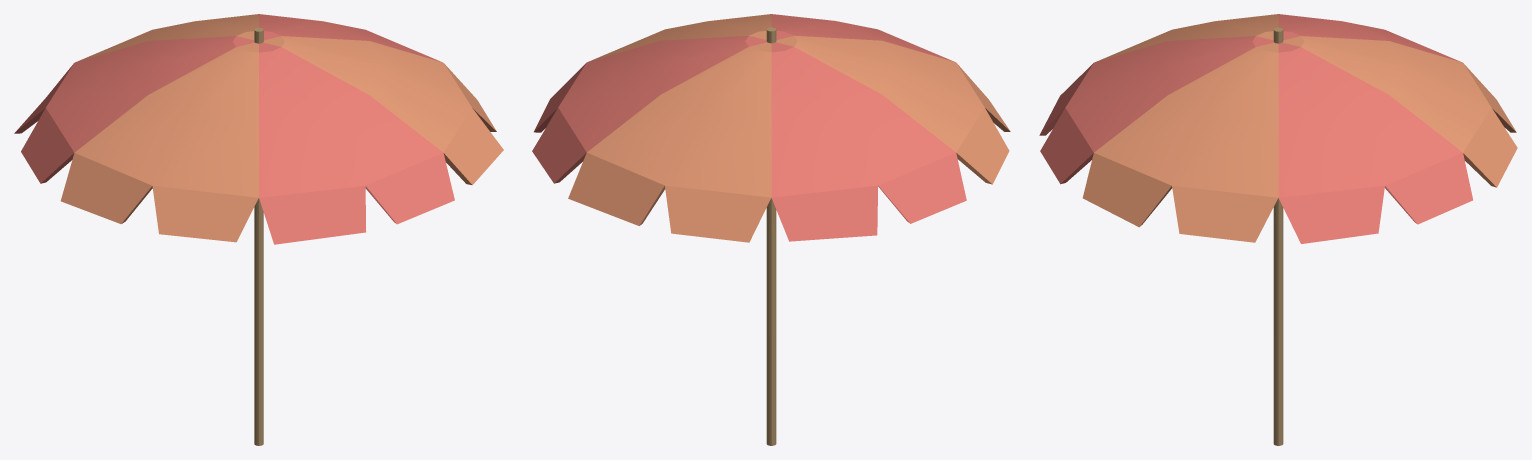
The model's file is atoll_parasol.fbx.
3 views of the same model, side by side, from view 1: azimuth 30°, elevation 25°; view 2: azimuth 150°, elevation 25°; view 3: azimuth 270°, elevation 25° (orthographic).
Parts seen in each view (by area): view 1: parasol; view 2: parasol; view 3: parasol.
Part boxes in pixels (box(x1,y1,x2,y2)): parasol: box(14, 14, 503, 445); parasol: box(532, 14, 1010, 445); parasol: box(1039, 14, 1517, 445).
Bounding box in the file's own units: 3.76 × 3.55 × 3.72.
